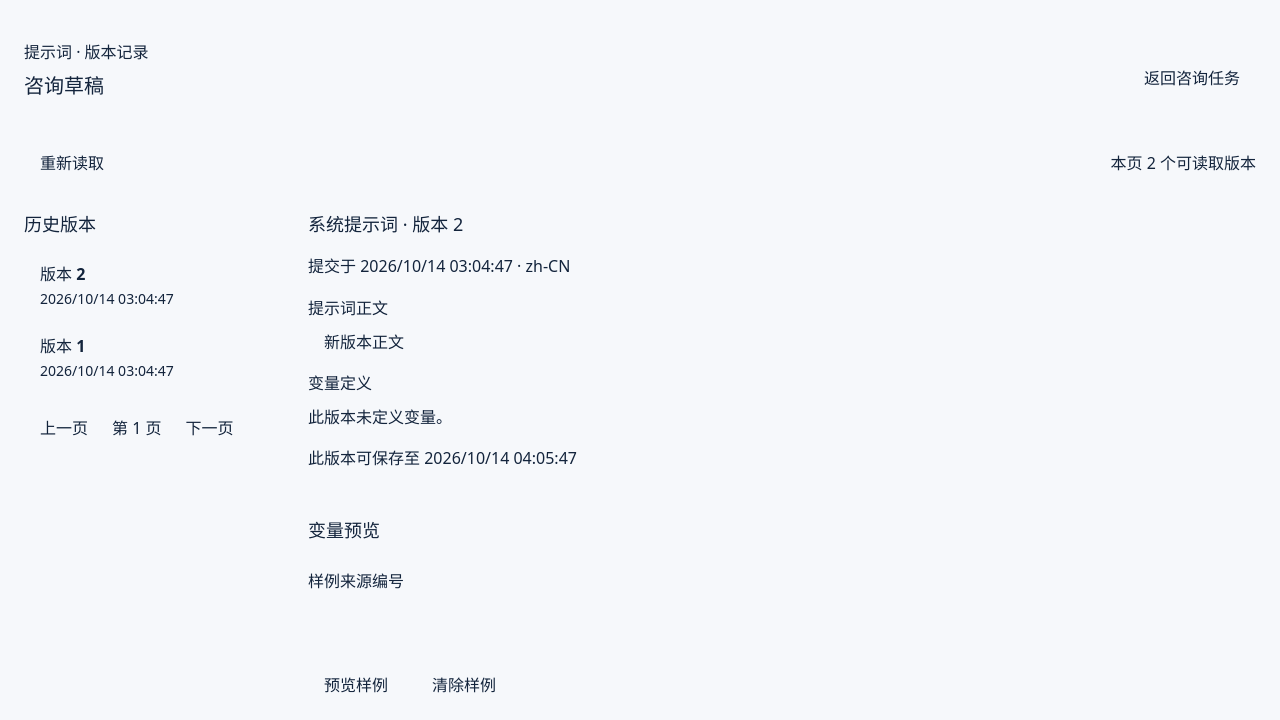
Test: failure 401 clears old text and history before retry
expect the text "新版本正文" is shown: met, box [324,331,404,353]
What coordinates should you click on to do the following:
click the button "重新读取"
I would click on:
 (72, 164)
Its box is [24,142,120,186].
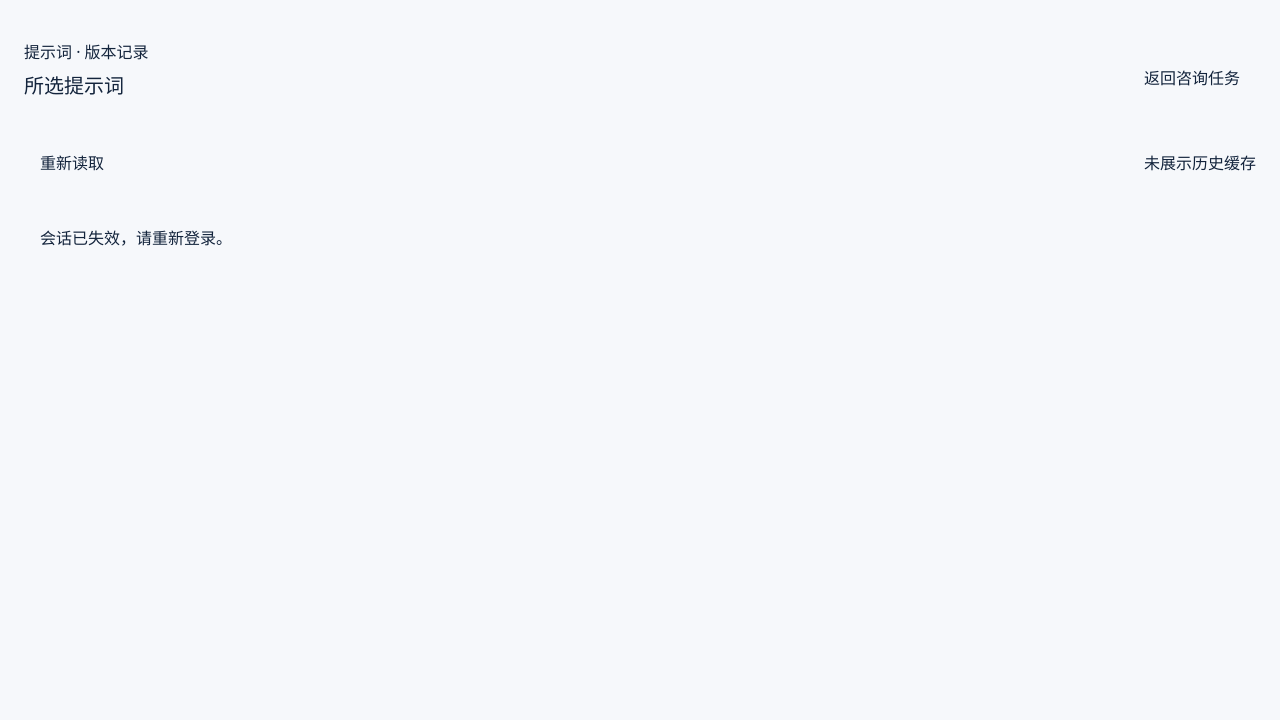
expect the message "会话已失效，请重新登录。" is shown: met, box [40,227,232,249]
expect the text "新版本正文" is gone: met
